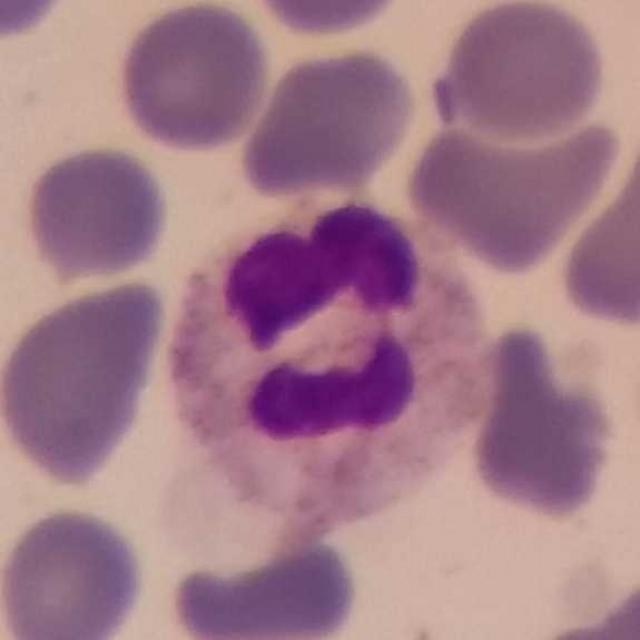Neutrophil: (151, 188, 513, 542)
RBC: (402, 98, 626, 275), (0, 273, 171, 488), (461, 320, 624, 524), (235, 41, 423, 200), (425, 1, 611, 144), (110, 0, 274, 155), (18, 140, 175, 285), (164, 532, 365, 640), (0, 502, 150, 640), (554, 141, 640, 346), (239, 0, 413, 40), (557, 571, 639, 640), (0, 0, 77, 46)
